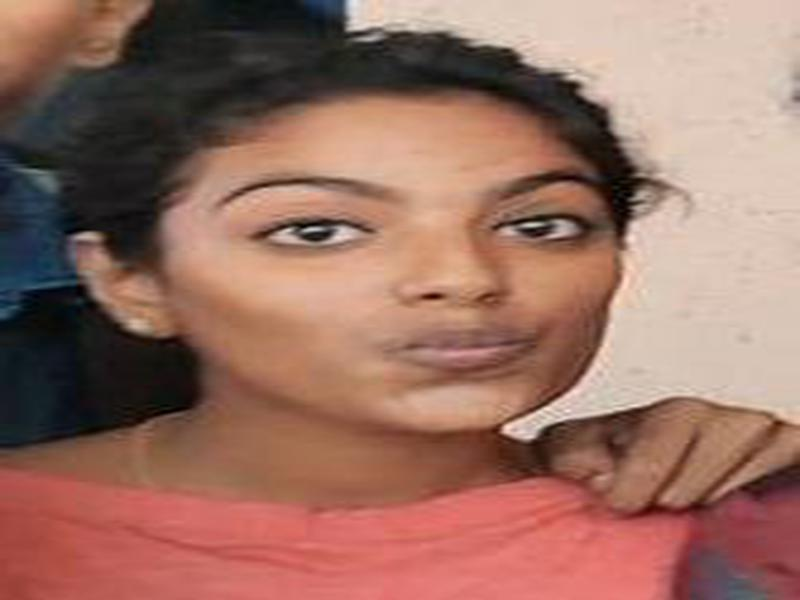without_mask: (143, 131, 624, 436)
